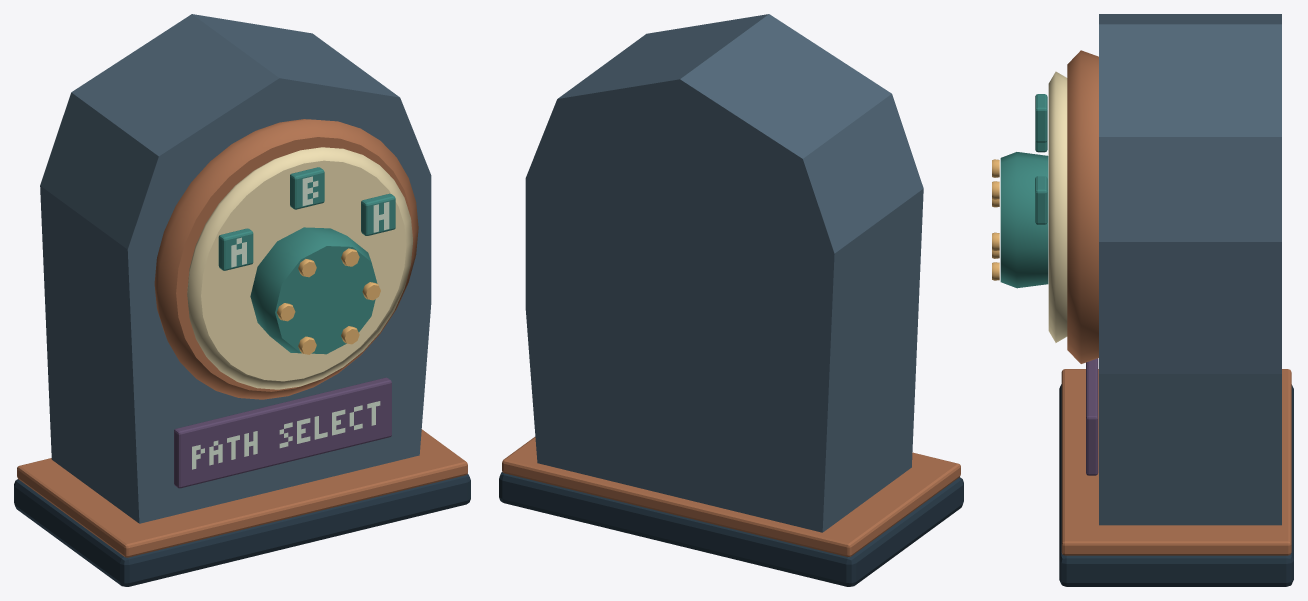
The picture shows the model from 3 angles, left to right: view 1: azimuth 30°, elevation 25°; view 2: azimuth 150°, elevation 25°; view 3: azimuth 270°, elevation 25°; orthographic projection. The views are drawn at different scales.
Visible parts, largest first — view 1: PR054 enamel and hardware; view 2: PR054 enamel and hardware; view 3: PR054 enamel and hardware.
Part boxes in pixels (bbox=[...]): PR054 enamel and hardware: bbox=[14, 14, 470, 586]; PR054 enamel and hardware: bbox=[499, 14, 963, 586]; PR054 enamel and hardware: bbox=[992, 14, 1293, 586].
Size of the model in its own units: 0.9098 by 1.13 by 0.65.
